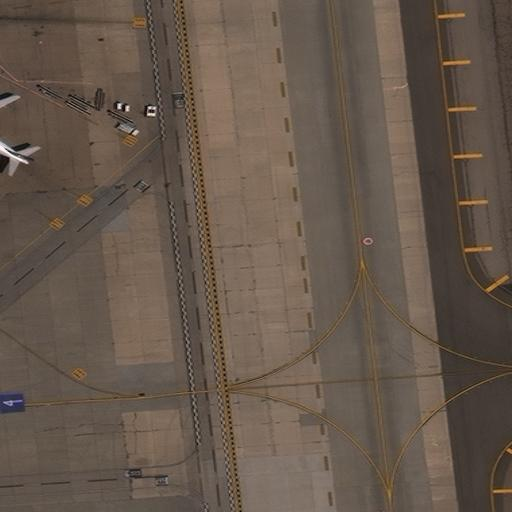Medium Civil Transport: (0, 95, 35, 164)
